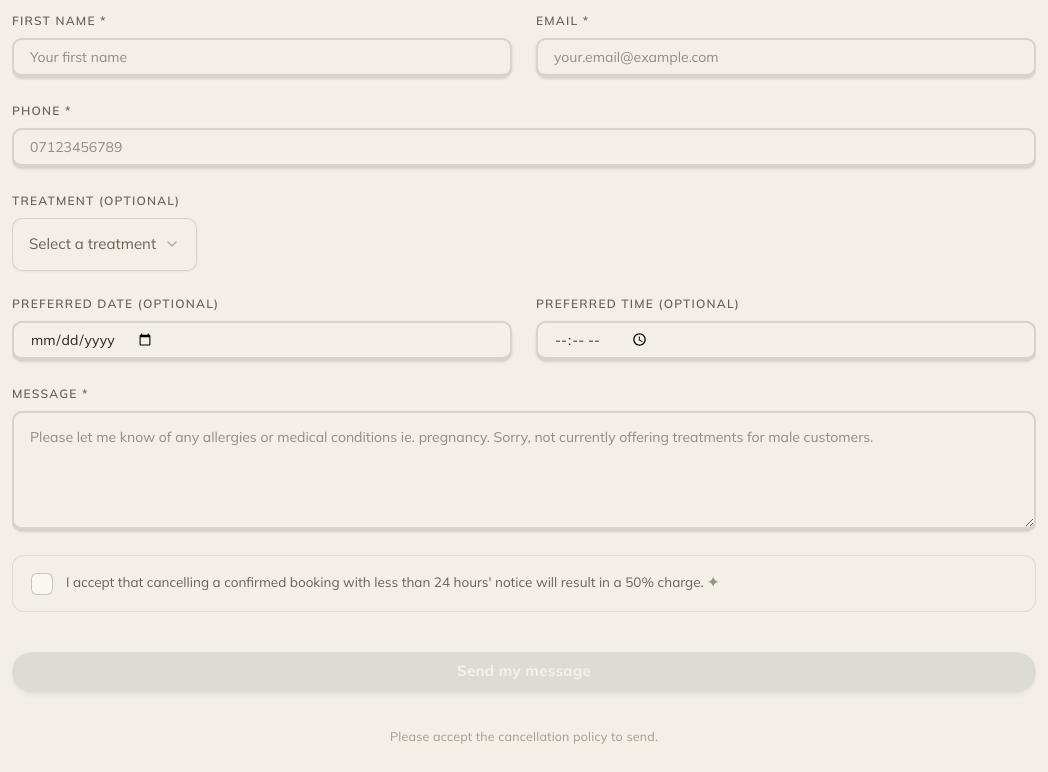
ContactForm Booking Request tracking › records no Booking Request when validation fails
Type "Anna" into the field with placeholder "Your first name" at (262, 58), box [12,38,512,78]
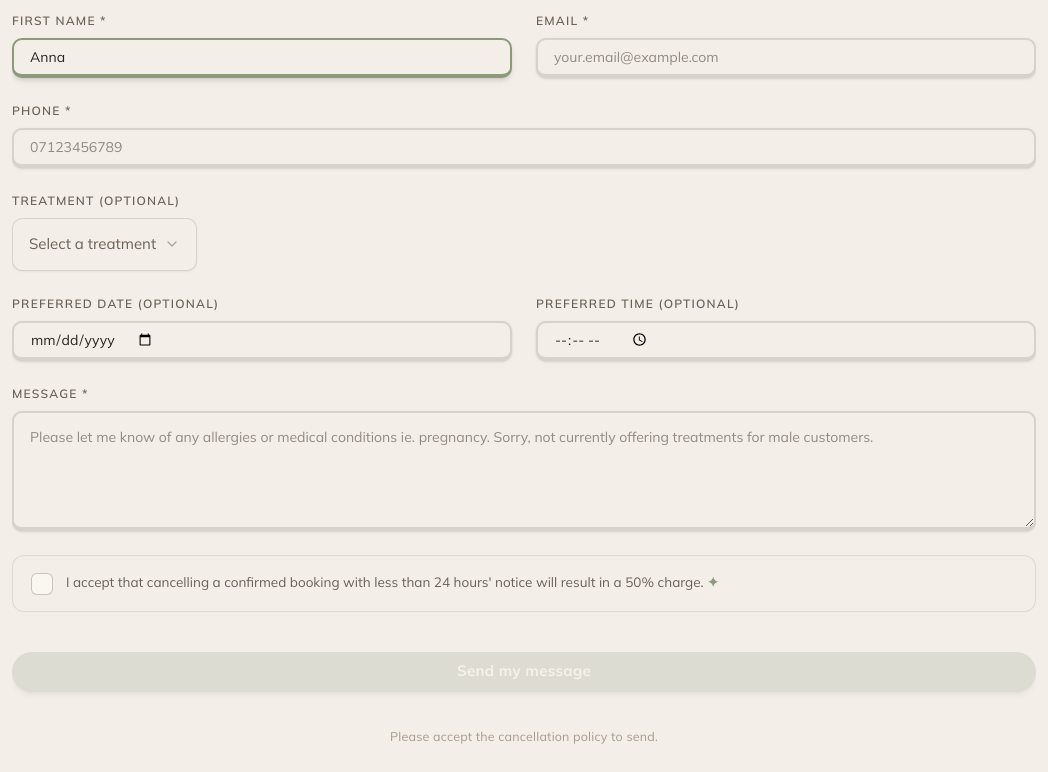
Type "anna@example.com" into the field with placeholder "your.email@example.com" at (786, 58), box [536,38,1036,78]
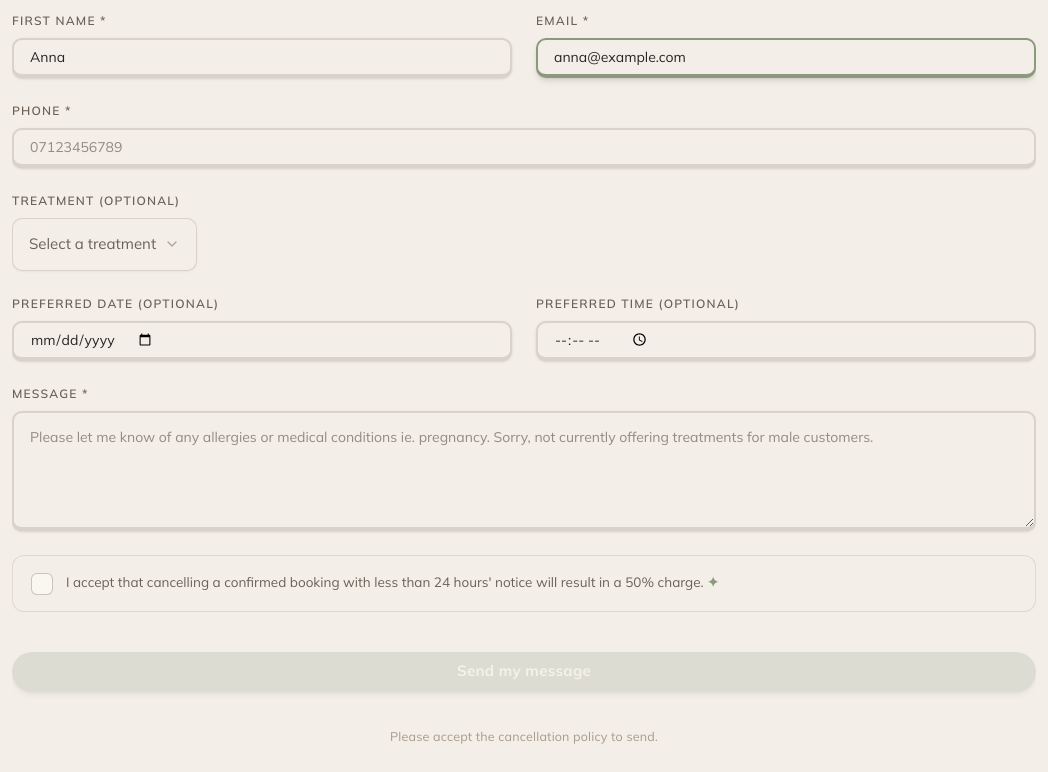
Type "12345" into the field with placeholder "07123456789" at (524, 148), box [12,128,1036,168]
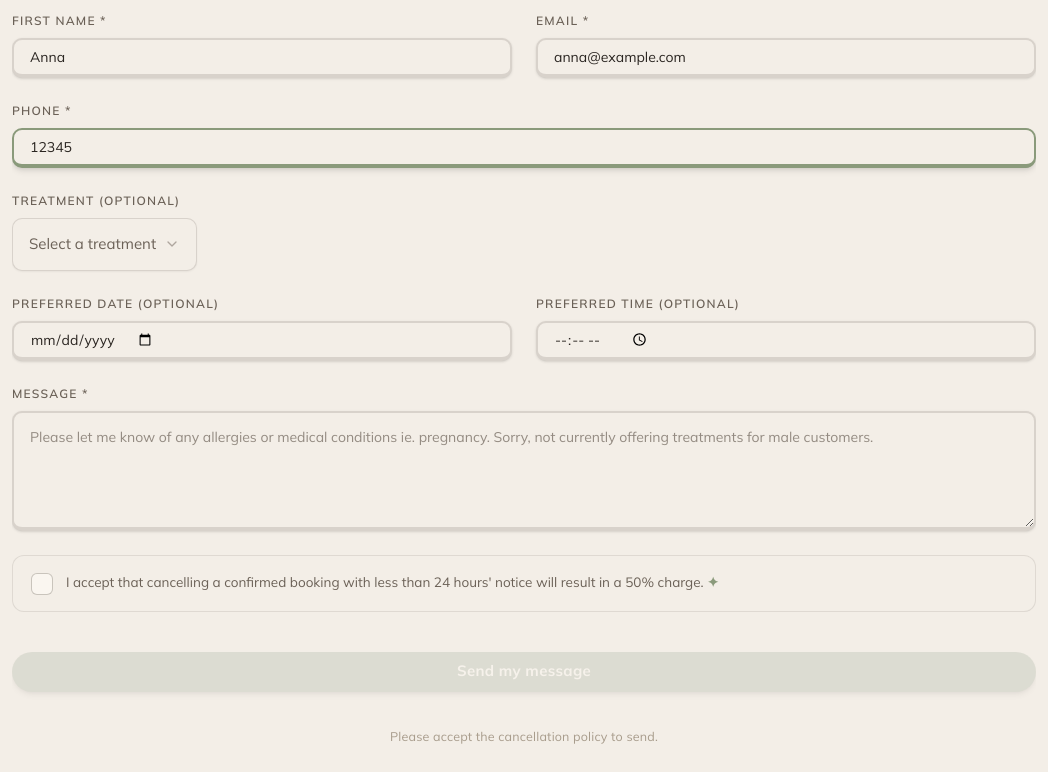
Type "I would like to book a massage please." into the text box with placeholder "allergies or medical conditions" at (524, 470), box [12,410,1036,530]
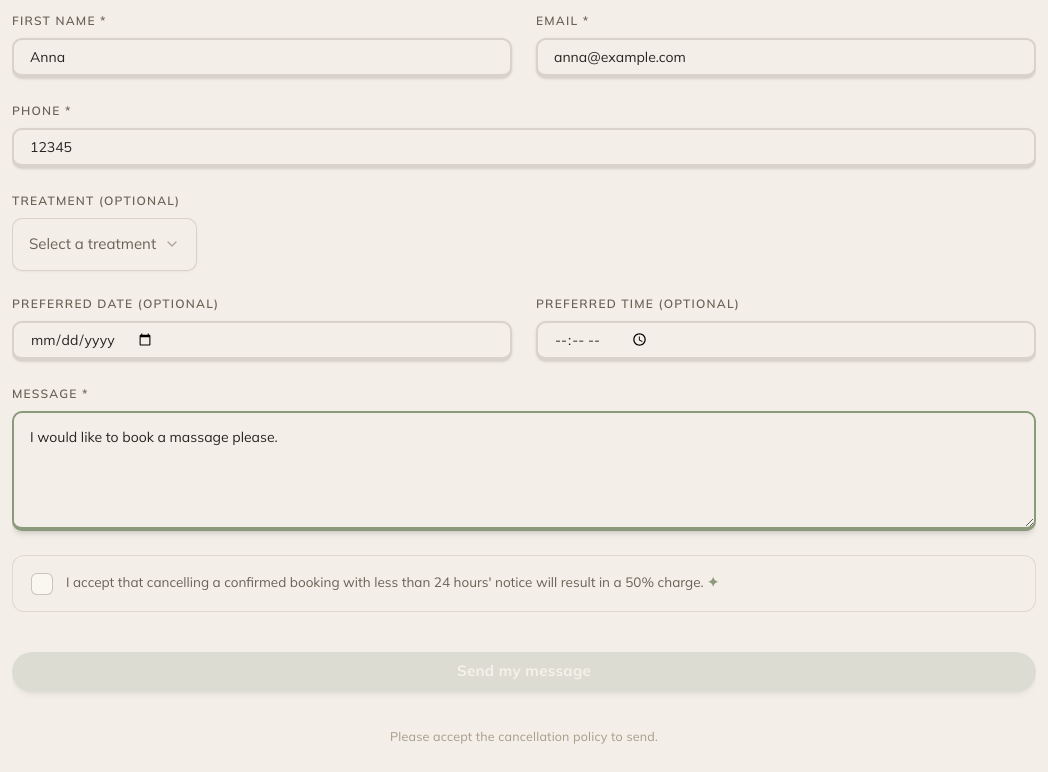
Click the checkbox at (524, 583), box [12,554,1036,612]
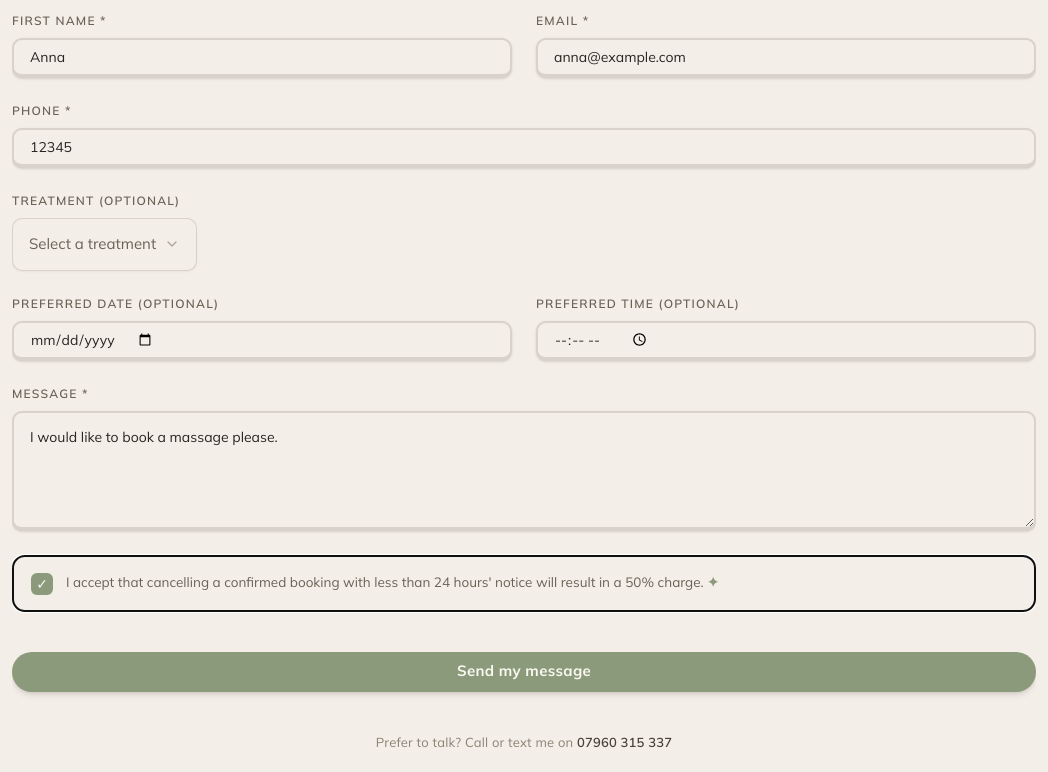
Click the button "Send my message" at (524, 672), box [12,652,1036,692]
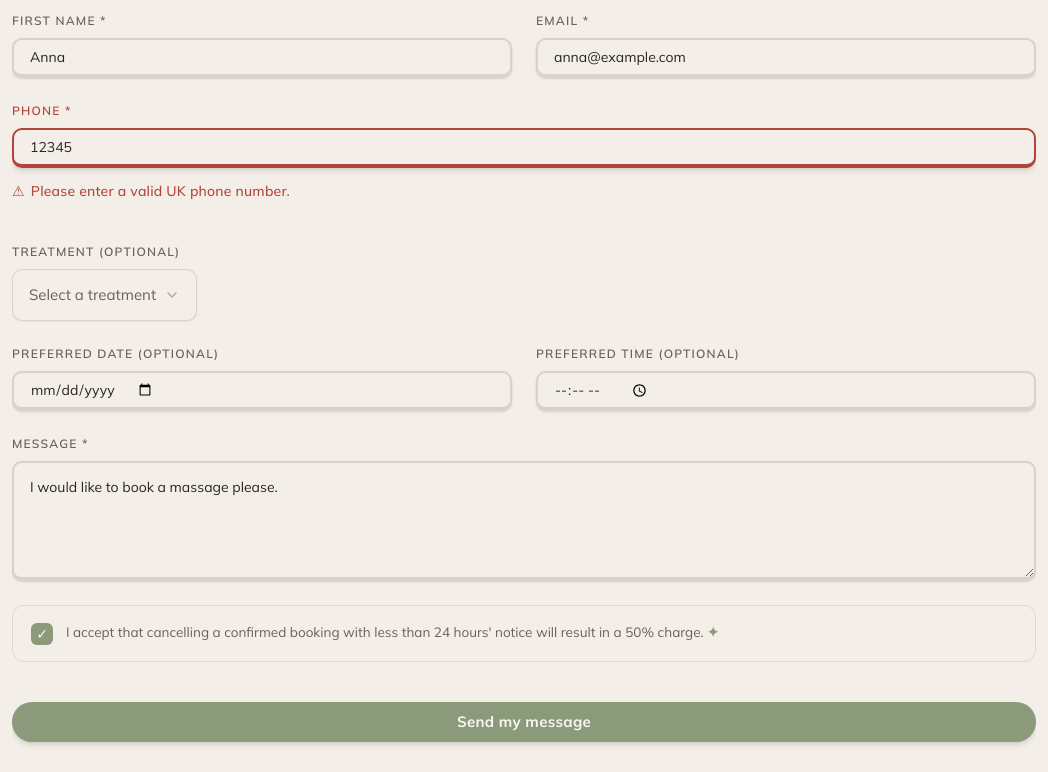
Check: the text "Please enter a valid UK phone number." is shown, box [31,182,290,200]
